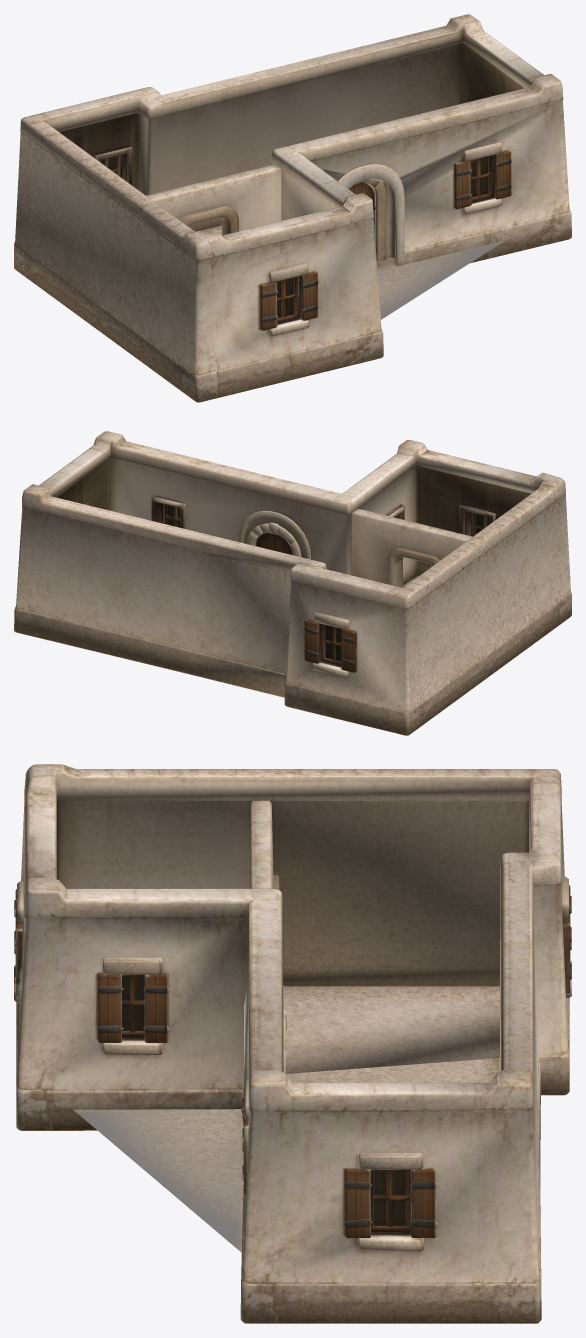
The model's file is generated-1948-05-plastered-courtyard-house-original.glb.
3 views of the same model, one above another, from view 1: azimuth 30°, elevation 25°; view 2: azimuth 150°, elevation 25°; view 3: azimuth 270°, elevation 25° (orthographic). The views are drawn at different scales.
Parts seen in each view (by area): view 1: tripo_node_ae511a0d-c45f-4aa8-80b5-962274b7c343; view 2: tripo_node_ae511a0d-c45f-4aa8-80b5-962274b7c343; view 3: tripo_node_ae511a0d-c45f-4aa8-80b5-962274b7c343.
Part boxes in pixels (<box>): tripo_node_ae511a0d-c45f-4aa8-80b5-962274b7c343: <box>14,14,571,402</box>; tripo_node_ae511a0d-c45f-4aa8-80b5-962274b7c343: <box>14,431,571,735</box>; tripo_node_ae511a0d-c45f-4aa8-80b5-962274b7c343: <box>14,764,571,1323</box>.
Bounding box in the file's own units: 0.9995 × 0.3325 × 0.7104.
Materials: 1 (1 with a texture image).
